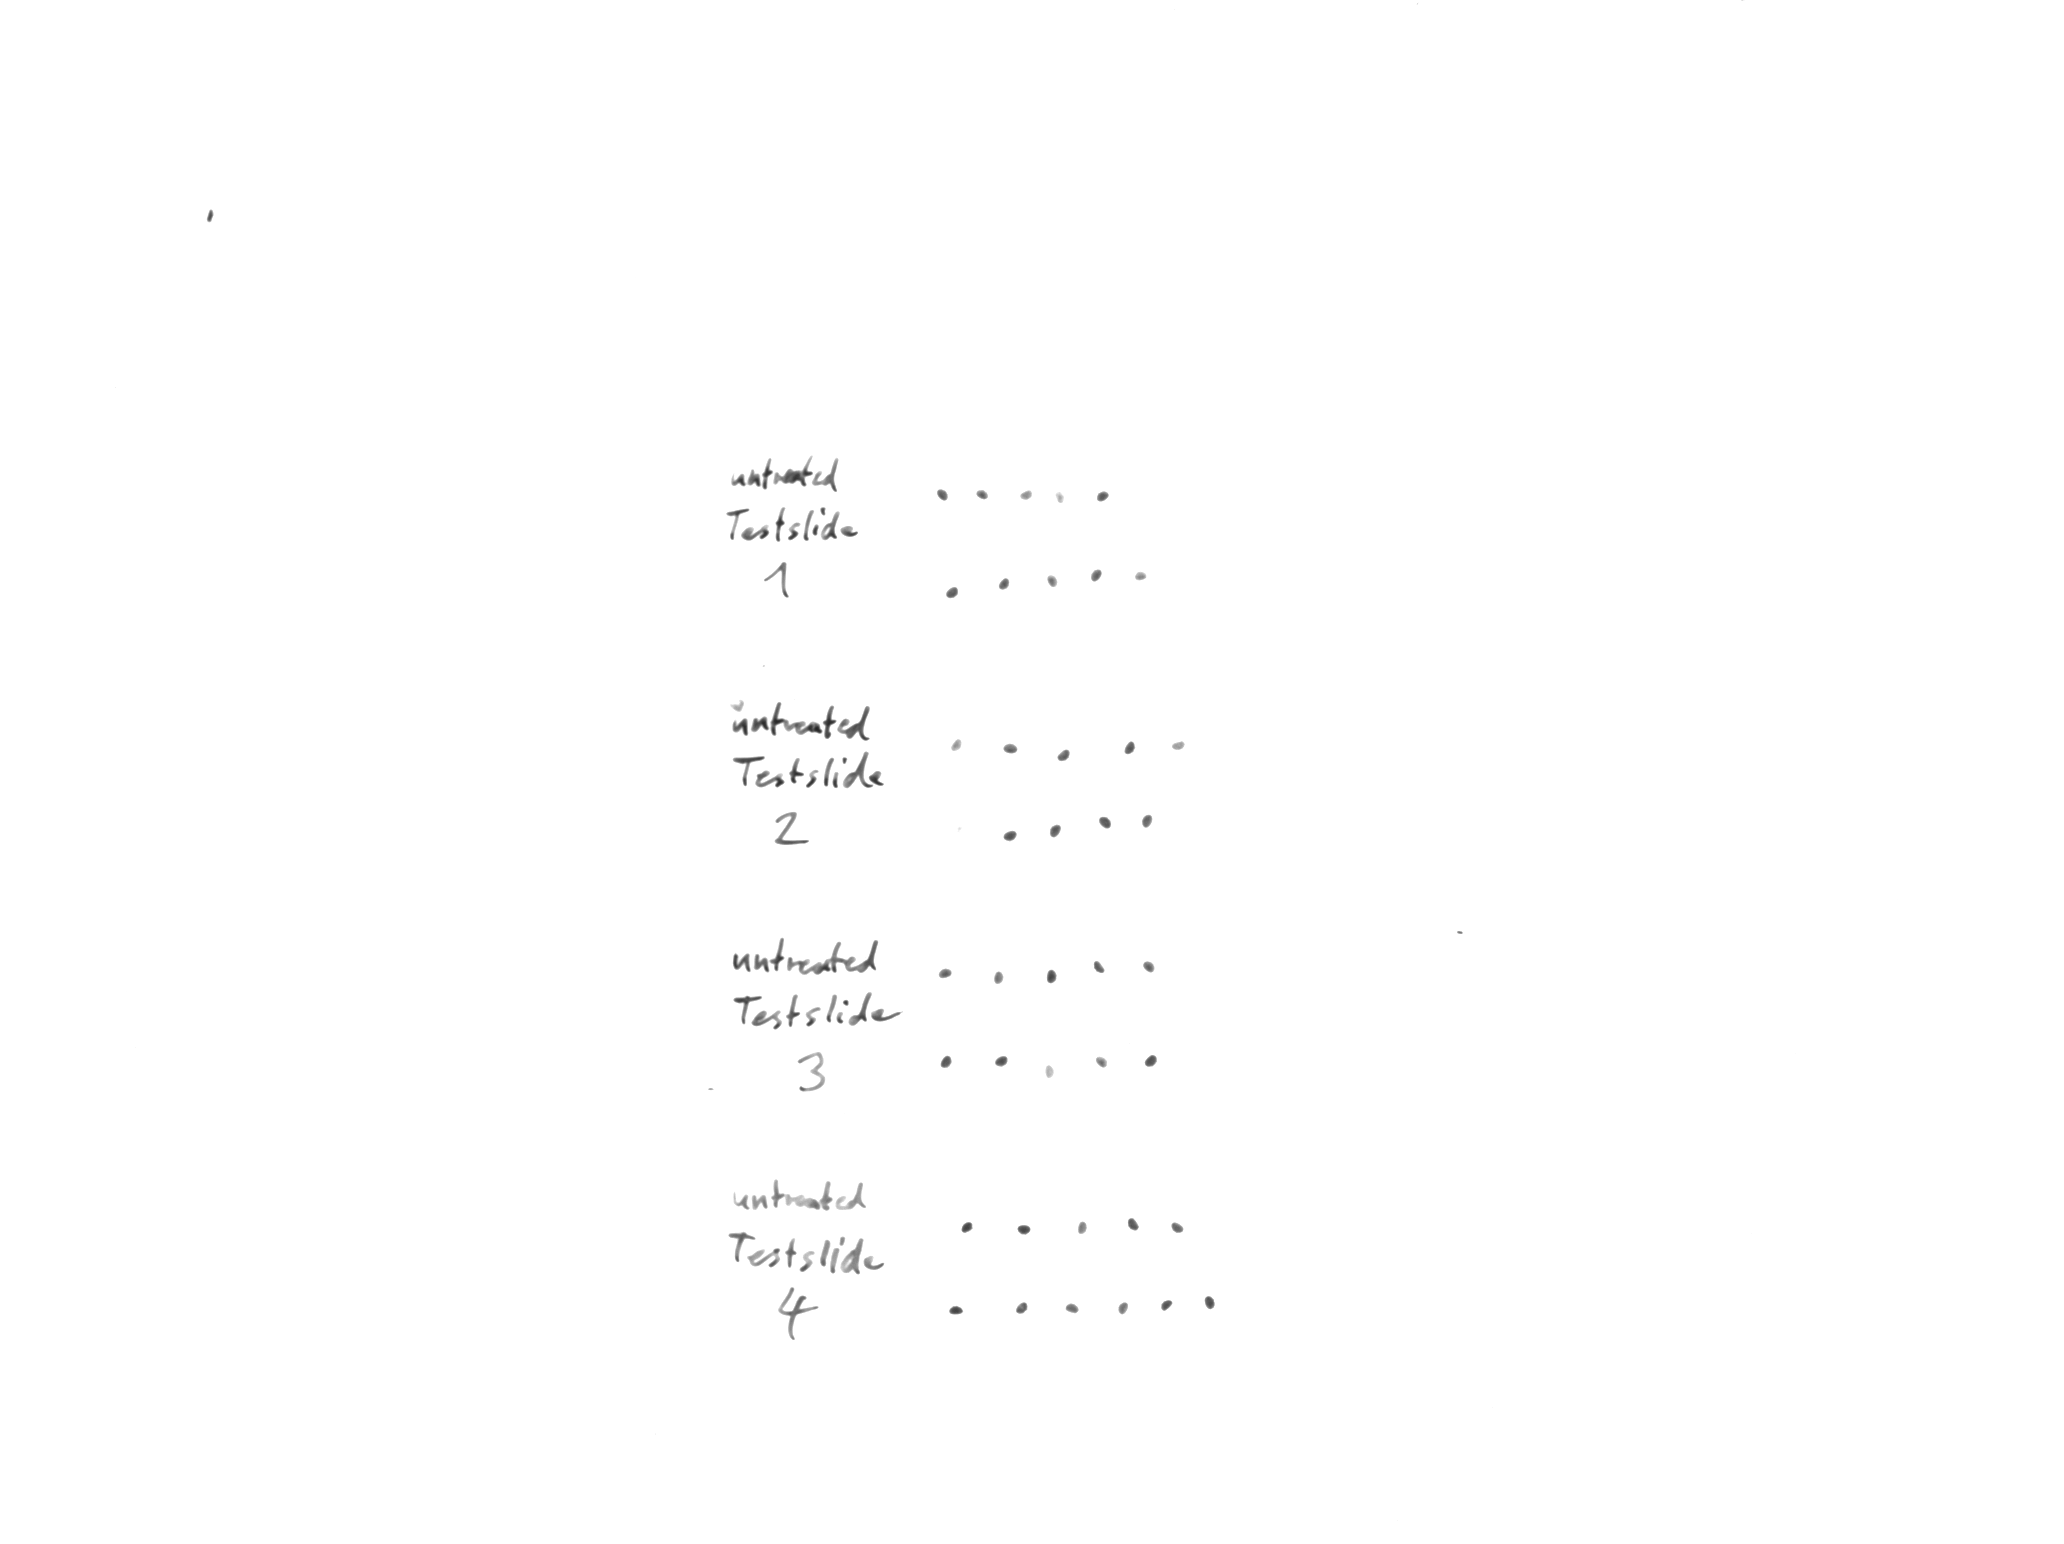varroa: (1088, 955, 1111, 976), (999, 827, 1020, 843), (1140, 1053, 1161, 1069), (1122, 1215, 1143, 1231), (1015, 1221, 1034, 1237), (940, 585, 961, 600), (1132, 566, 1150, 582), (1046, 822, 1064, 838), (1096, 814, 1114, 830), (1138, 811, 1154, 829), (992, 1053, 1010, 1069), (934, 967, 955, 980), (996, 576, 1012, 592), (1169, 1220, 1185, 1236), (1093, 488, 1111, 503), (1043, 573, 1060, 587), (1054, 748, 1072, 762), (1119, 740, 1137, 754), (1090, 566, 1103, 585), (945, 1302, 965, 1315), (1073, 1220, 1090, 1234), (1201, 1294, 1216, 1310), (1140, 959, 1158, 971), (1093, 1054, 1111, 1067), (1010, 1301, 1028, 1314), (1169, 740, 1188, 751), (1044, 968, 1059, 983), (937, 1054, 952, 1069), (934, 488, 950, 501), (1002, 741, 1018, 754), (973, 488, 991, 500), (1018, 488, 1033, 501), (1054, 490, 1067, 504), (960, 1221, 974, 1234), (1065, 1302, 1080, 1315), (1159, 1297, 1172, 1312), (1044, 1062, 1054, 1080), (1116, 1301, 1128, 1314), (948, 740, 963, 751), (992, 971, 1004, 986)
